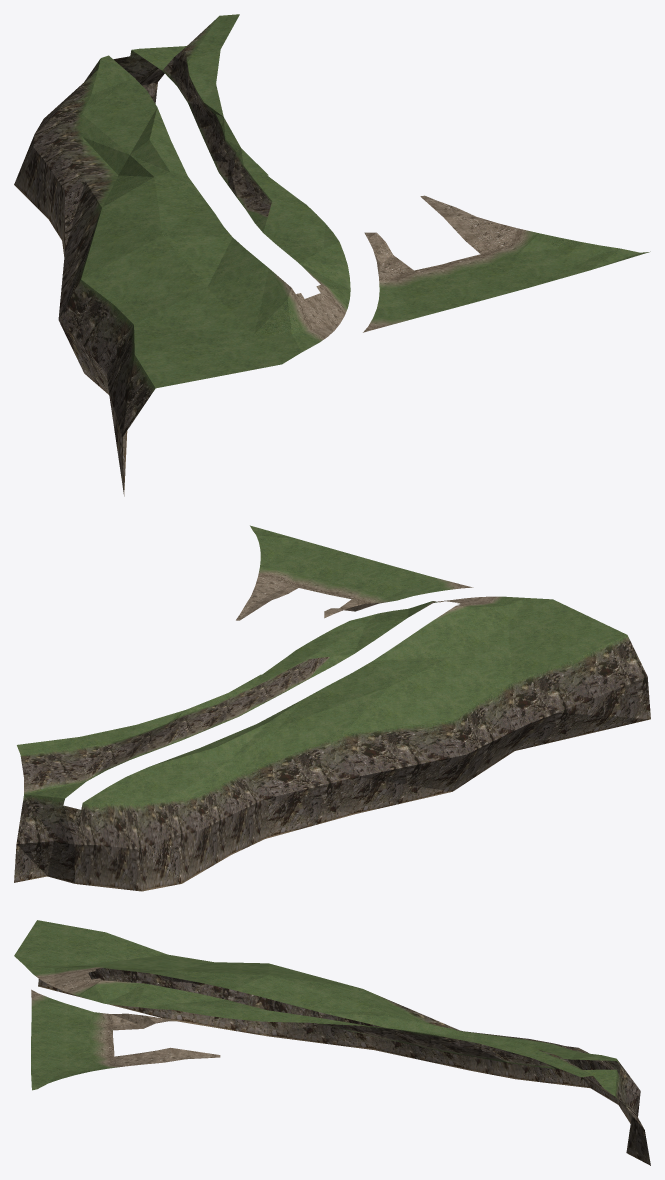
File: ce_groundpalo10.obj
3 renders of one model, top to bottom at view 1: azimuth 30°, elevation 25°; view 2: azimuth 150°, elevation 25°; view 3: azimuth 270°, elevation 25°, orthographic. The views are drawn at different scales.
Parts seen in each view (by area): view 1: CE_groundPALO10; view 2: CE_groundPALO10; view 3: CE_groundPALO10.
Boxes of the visible parts, x1,y1,x2,y2 form: CE_groundPALO10: (14, 14, 650, 496); CE_groundPALO10: (14, 525, 650, 891); CE_groundPALO10: (14, 920, 650, 1165).
Size of the model in its own units: 208 by 57.56 by 285.
Materials: 5 (5 with a texture image).
